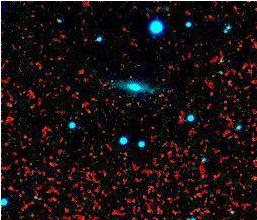star: (138, 77, 168, 107)
